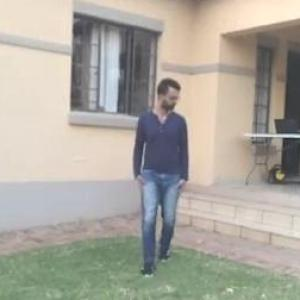follow: (135, 70, 194, 278)
